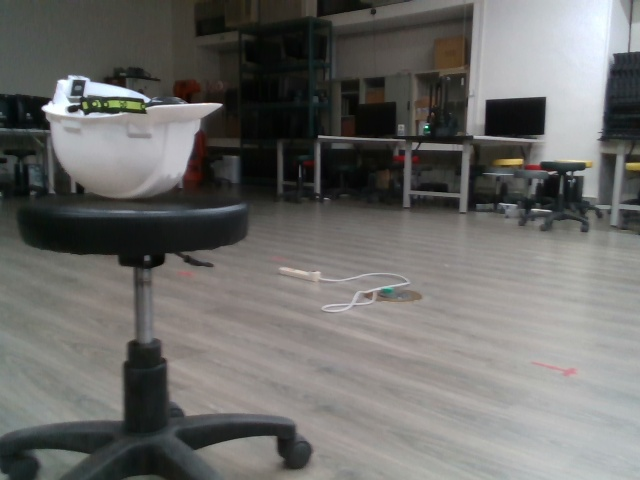helmet: (37, 69, 224, 200)
